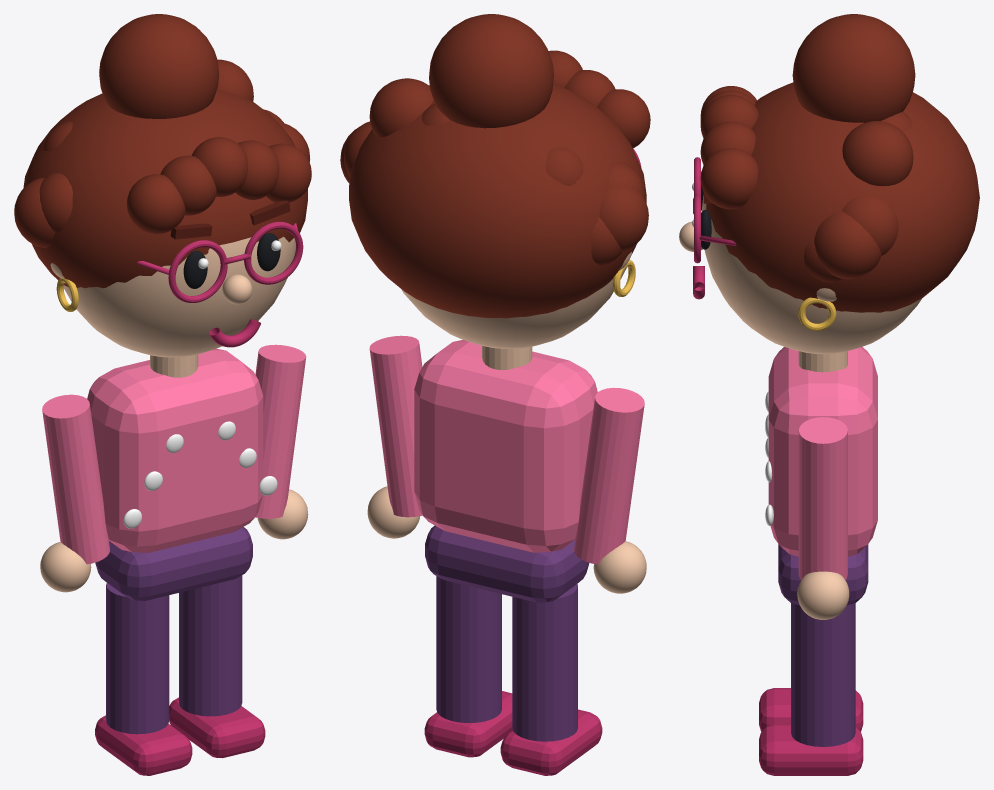
Rendered from mama.glb.
The picture shows the model from 3 angles, left to right: view 1: azimuth 30°, elevation 25°; view 2: azimuth 150°, elevation 25°; view 3: azimuth 270°, elevation 25°; orthographic projection. The views are drawn at different scales.
Visible parts, largest first — view 1: Cube.003, Sphere.008, Sphere, Sphere.028, brazo_i, Cylinder, Cylinder.001, brazo_d, Cube.002, Cube, Cube.001, Sphere.023 (+16 smaller); view 2: Sphere.008, Cube.003, Sphere.028, brazo_i, Cylinder, Cylinder.001, brazo_d, Cube.002, Sphere, Cube, Cube.001, Sphere.011 (+9 smaller); view 3: Sphere.008, Cube.003, Sphere.028, brazo_d, Cylinder.001, Sphere, Cube.001, Sphere.011, Sphere.009, Sphere.027, Cube.002, Sphere.010 (+6 smaller).
Boxes of the visible parts, <box> form: Cube.003: <box>87,348,263,552</box>; Sphere.008: <box>23,89,307,288</box>; Sphere: <box>64,236,295,357</box>; Sphere.028: <box>99,14,219,118</box>; brazo_i: <box>40,394,109,592</box>; Cylinder: <box>106,583,169,734</box>; Cylinder.001: <box>179,575,242,716</box>; brazo_d: <box>255,344,308,539</box>; Cube.002: <box>95,527,252,600</box>; Cube: <box>95,715,192,775</box>; Cube.001: <box>169,697,265,758</box>; Sphere.023: <box>126,174,185,234</box>; Sphere.008: <box>349,83,646,318</box>; Cube.003: <box>414,340,597,552</box>; Sphere.028: <box>429,14,553,128</box>; brazo_i: <box>574,387,646,593</box>; Cylinder: <box>512,584,577,741</box>; Cylinder.001: <box>436,576,501,722</box>; brazo_d: <box>367,335,422,538</box>; Cube.002: <box>425,525,589,602</box>; Sphere: <box>401,267,626,348</box>; Cube: <box>500,709,602,775</box>; Cube.001: <box>424,691,512,757</box>; Sphere.011: <box>369,78,433,137</box>; Sphere.008: <box>706,82,979,312</box>; Cube.003: <box>768,347,877,556</box>; Sphere.028: <box>792,14,915,122</box>; brazo_d: <box>797,417,849,619</box>; Cylinder.001: <box>791,603,855,746</box>; Sphere: <box>701,195,921,354</box>; Cube.001: <box>759,724,863,775</box>; Sphere.011: <box>842,121,913,186</box>; Sphere.009: <box>814,211,881,279</box>; Sphere.027: <box>700,148,758,209</box>; Cube.002: <box>778,544,868,605</box>; Sphere.010: <box>842,195,898,255</box>.
Bounding box in the file's own units: 1.1 × 2.62 × 0.98.
